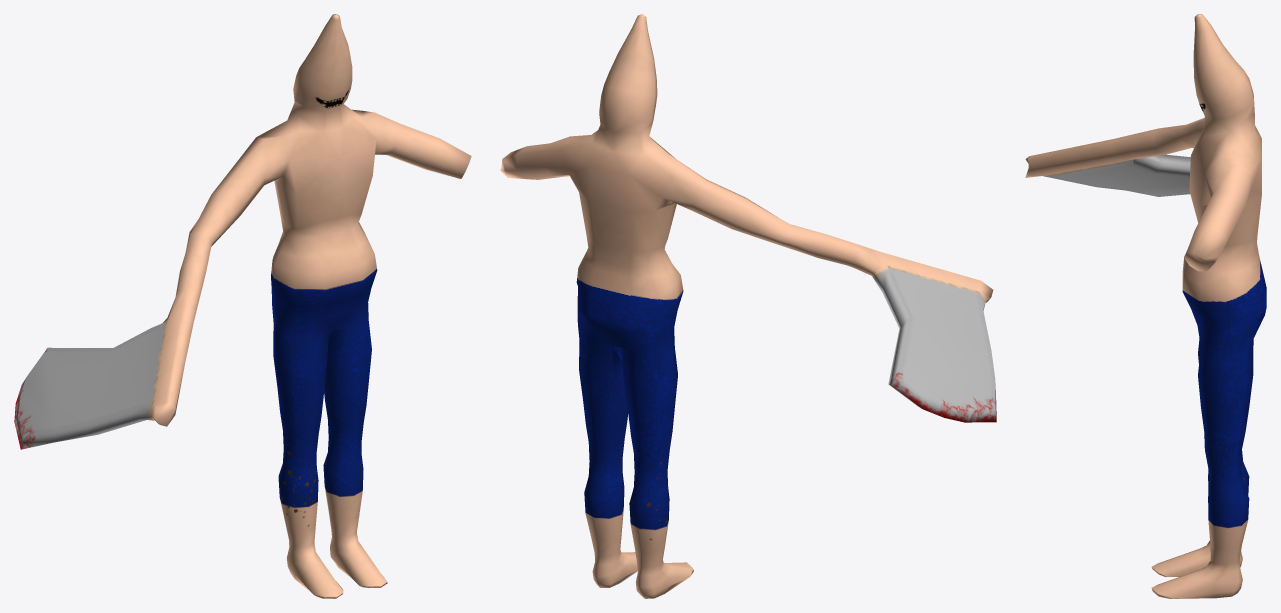
File: Paul.fbx
The picture shows the model from 3 angles, left to right: view 1: azimuth 30°, elevation 25°; view 2: azimuth 150°, elevation 25°; view 3: azimuth 270°, elevation 25°; orthographic projection.
Parts seen in each view (by area): view 1: pCylinder7; view 2: pCylinder7; view 3: pCylinder7.
Boxes of the visible parts, <box> form: pCylinder7: <box>14,14,471,598</box>; pCylinder7: <box>500,14,996,598</box>; pCylinder7: <box>1025,14,1266,598</box>.
Bounding box in the file's own units: 252 × 287 × 111.
1 material, 1 textured.
